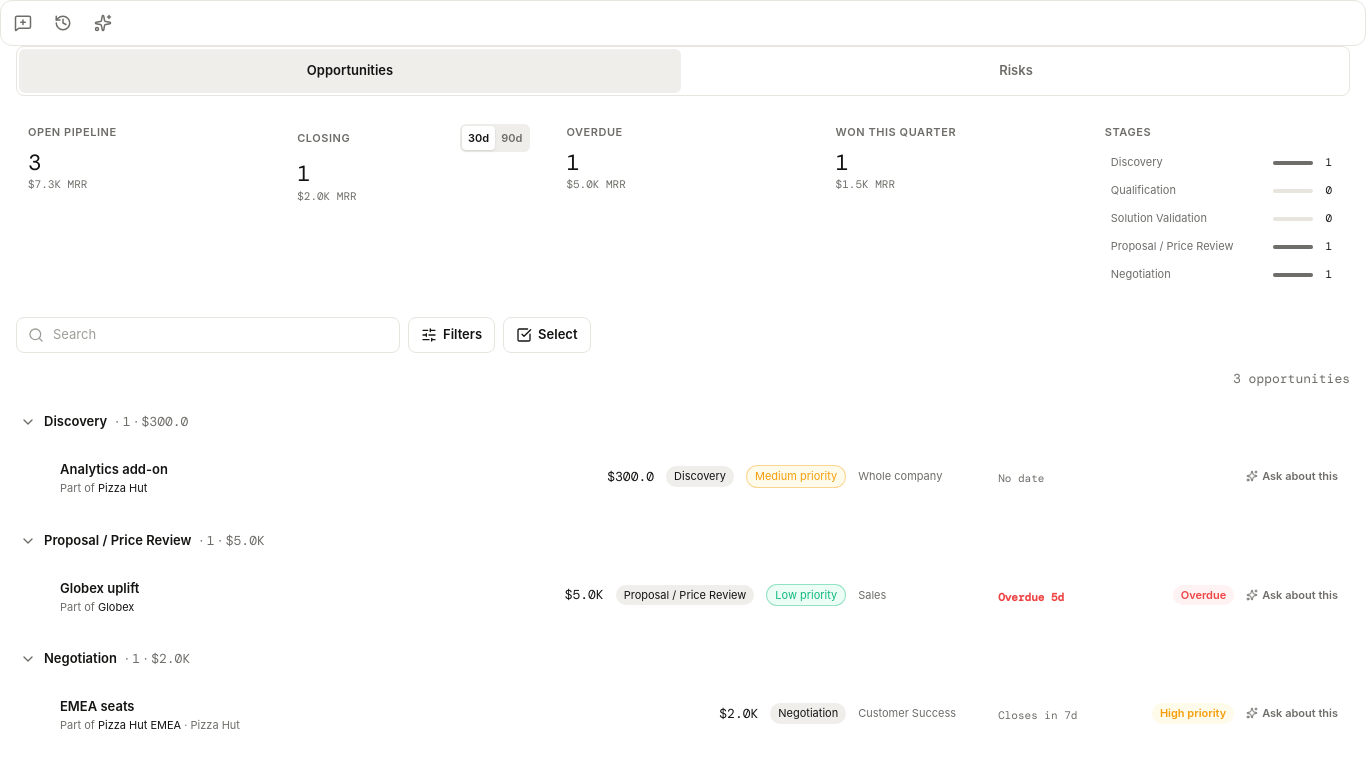
Test case: Ask about this on Pipelines › opens the sheet with the question on a phone
This screenshot has width=1366, height=768.
Click the button with aria-label "Ask about this: Globex uplift".
click(1292, 595)  # box left=1246, top=577, right=1338, bottom=613
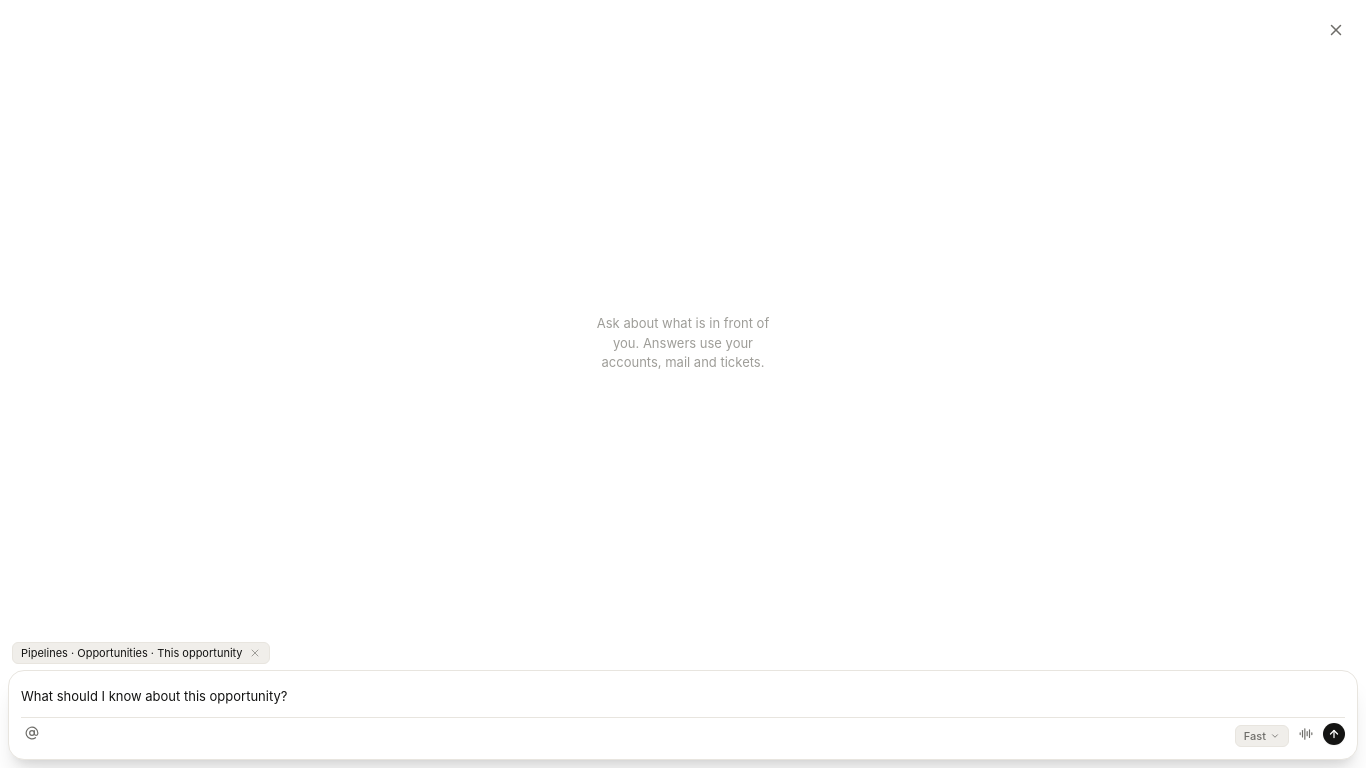
Expected: the text "Pipelines · Opportunities · This opportunity" is shown, left=12, top=642, right=270, bottom=664
Expected: the field with placeholder "Ask Revenact" holds "What should I know about this opportunity?", left=21, top=685, right=1345, bottom=708
